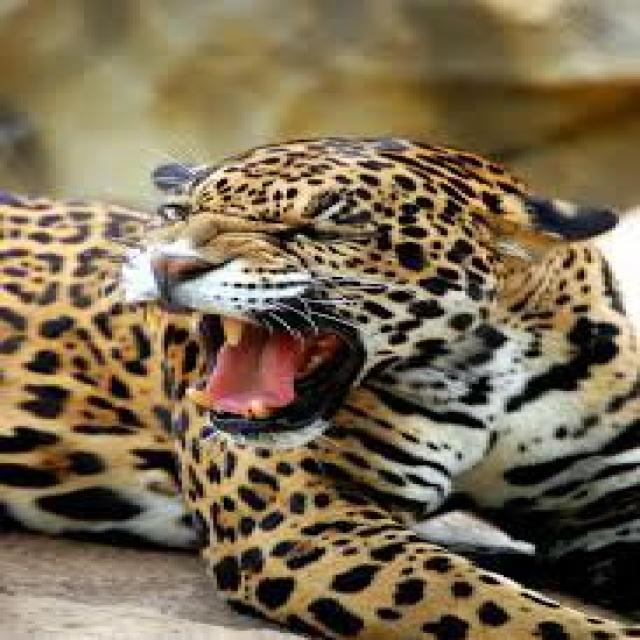Jaguar: (3, 135, 640, 640)
